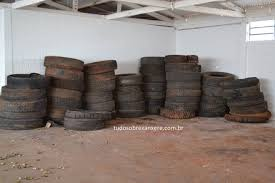tire: (43, 55, 83, 72), (6, 72, 50, 87), (61, 116, 107, 130), (1, 85, 47, 99), (199, 70, 237, 86), (65, 108, 111, 119), (80, 61, 117, 72), (165, 63, 199, 74), (165, 72, 201, 82), (163, 88, 204, 96), (81, 71, 117, 80), (81, 81, 117, 90), (166, 81, 201, 90), (141, 81, 166, 93), (139, 64, 164, 75), (114, 74, 144, 83), (164, 55, 197, 63), (140, 91, 166, 101), (165, 95, 200, 102), (115, 83, 141, 92), (141, 73, 166, 82), (139, 57, 165, 65)
